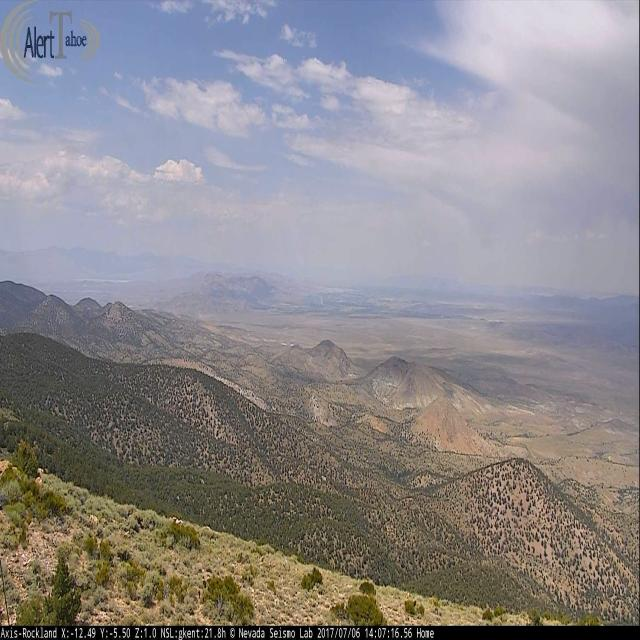smoke: (320, 296, 323, 304)
